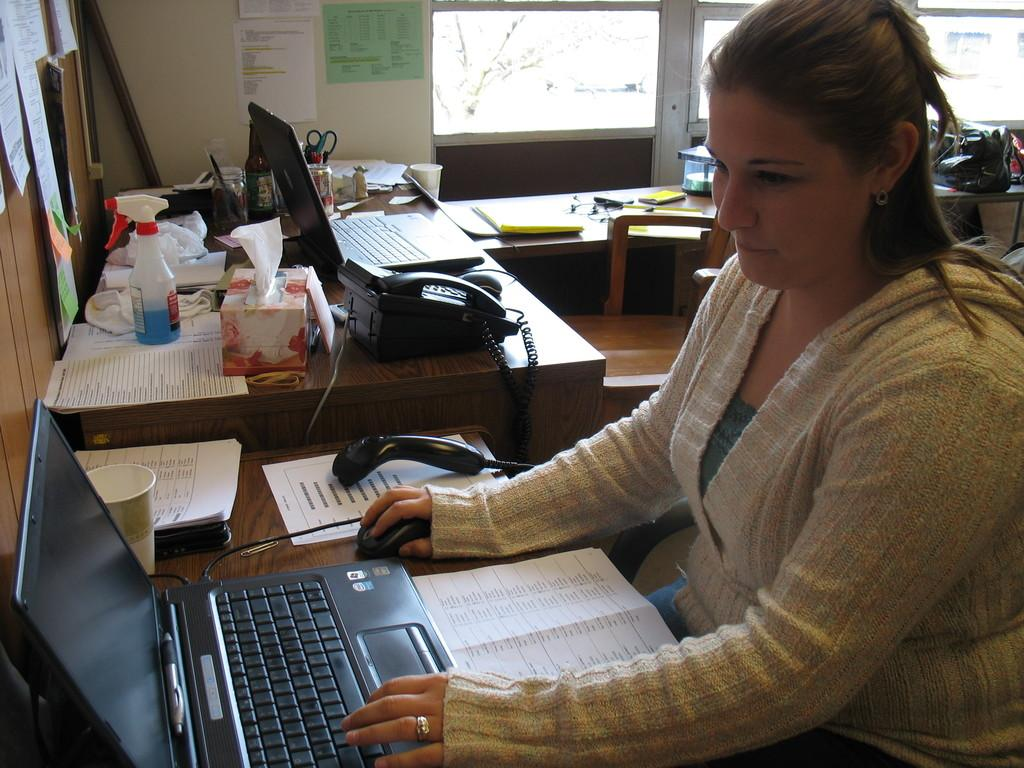Laptop: (9, 396, 457, 767), (246, 100, 485, 283)
